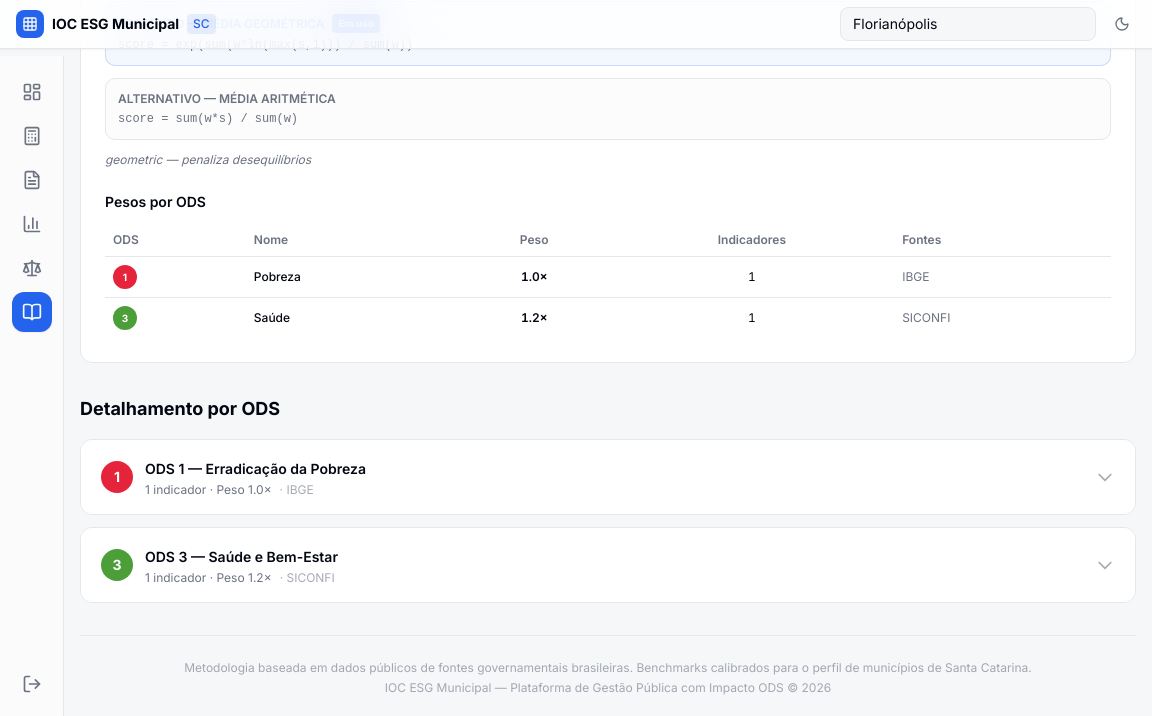
MethodologyPage › mostra badge Maior = melhor para indicadores diretos
(page scrolled)
Check: the text "ODS 3 — Saúde e Bem-Estar" is shown, box [145, 548, 338, 565]
Click the button "ODS 3 — Saúde e Bem-Estar" at (117, 565), box [81, 528, 1135, 602]
(page scrolled)
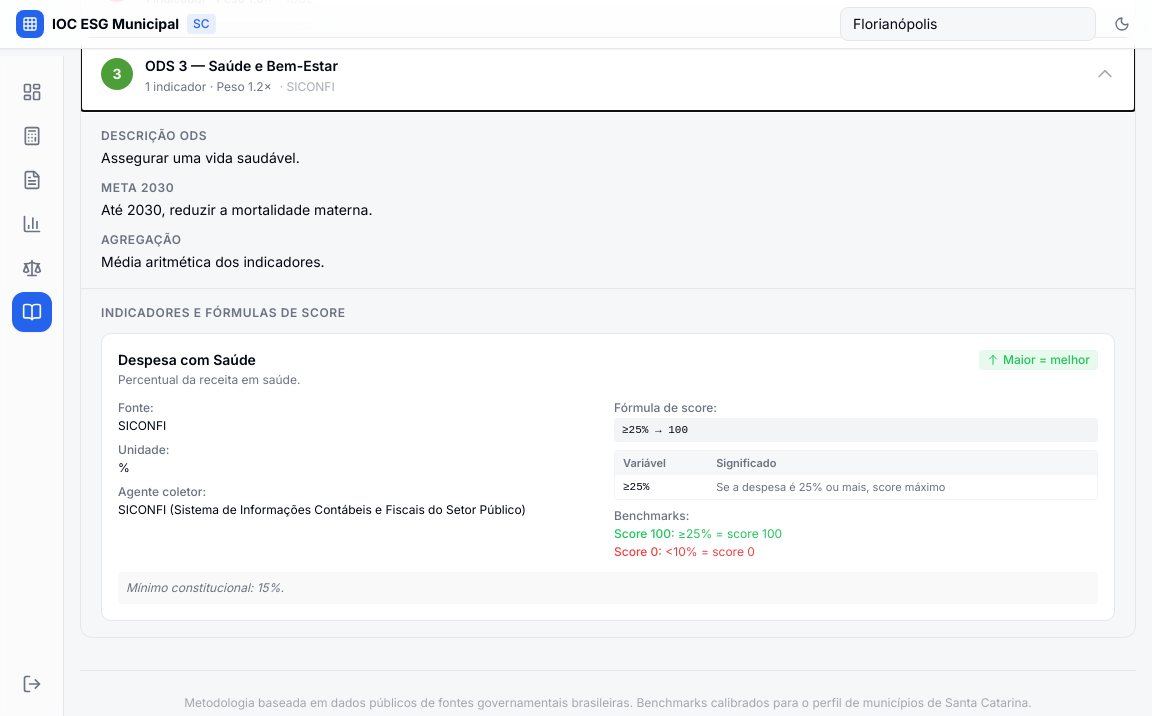
Check: the text "Maior = melhor" is shown, box [979, 350, 1098, 370]
